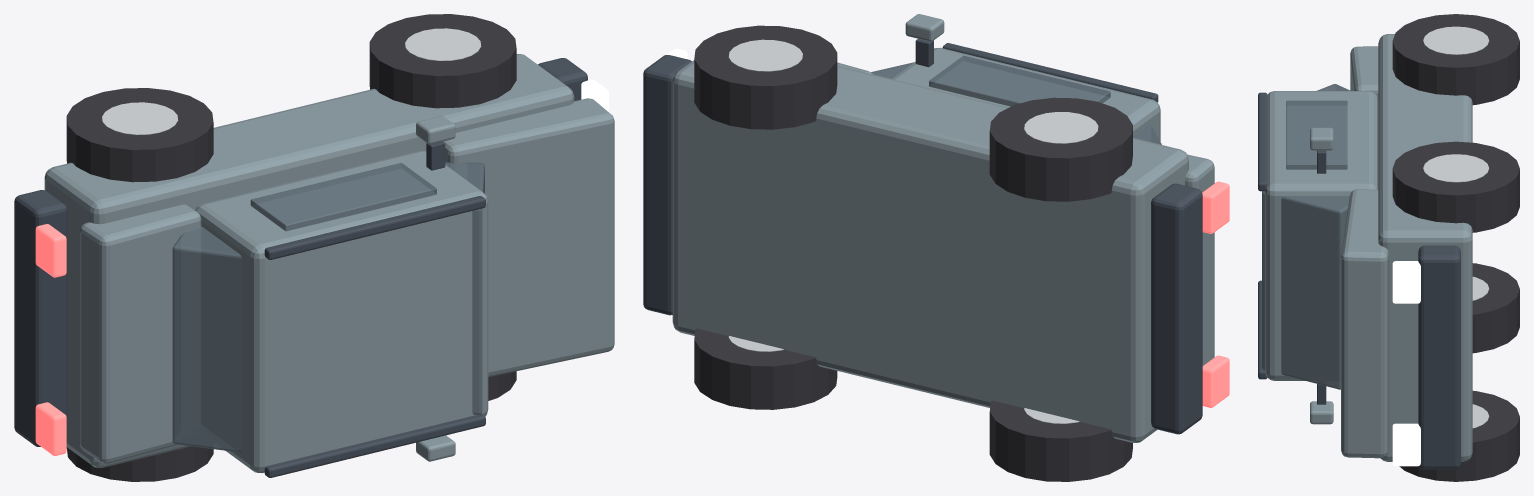
The model's file is infra-props-b.glb.
3 renders of one model, left to right at view 1: azimuth 30°, elevation 25°; view 2: azimuth 150°, elevation 25°; view 3: azimuth 270°, elevation 25°, orthographic. The views are drawn at different scales.
Visible parts, largest first — view 1: Cabin, Hood, Chassis, RearDeck, RearWindow, BumperRear, Wheel2, Wheel0, SideGlassL, RoofRailL, RoofRailR, Windshield (+8 smaller); view 2: Chassis, BumperRear, Wheel2, Wheel0, Wheel3, Wheel1, BumperFront, Cabin, SideGlassL, RearDeck, Rim0, Rim2 (+4 smaller); view 3: Cabin, Chassis, Windshield, Hood, BumperFront, Wheel0, Wheel2, Wheel1, SideGlassL, Wheel3, Rim0, Rim2 (+9 smaller).
Part boxes in pixels (x1,y1,x2,y2): Cabin: (195,150,488,472); Hood: (443,98,614,376); Chassis: (44,54,574,467); RearDeck: (80,204,201,463); RearWindow: (172,226,241,452); BumperRear: (14,190,67,446); Wheel2: (66,88,213,182); Wheel0: (369,14,516,108); SideGlassL: (250,163,436,231); RoofRailL: (264,196,485,259); RoofRailR: (264,414,485,477); Windshield: (445,162,484,414); Chassis: (672,60,1188,442); BumperRear: (1151,183,1202,434); Wheel2: (989,97,1132,201); Wheel0: (694,25,837,129); Wheel3: (989,400,1132,481); Wheel1: (694,328,837,409); BumperFront: (643,55,691,315); Cabin: (892,47,1160,141); SideGlassL: (929,55,1110,106); RearDeck: (1185,154,1214,365); Rim0: (728,39,802,71); Rim2: (1024,112,1098,143); Cabin: (1265,91,1378,380); Chassis: (1378,34,1472,461); Windshield: (1262,191,1349,389); Hood: (1341,189,1388,458); BumperFront: (1418,245,1460,469); Wheel0: (1392,141,1519,232); Wheel2: (1392,14,1519,105); Wheel1: (1399,390,1519,481); SideGlassL: (1286,100,1347,169); Wheel3: (1472,263,1519,353); Rim0: (1423,154,1489,182); Rim2: (1423,26,1489,54).
Bounding box in the file's own units: 1.19 × 0.672 × 0.555.
